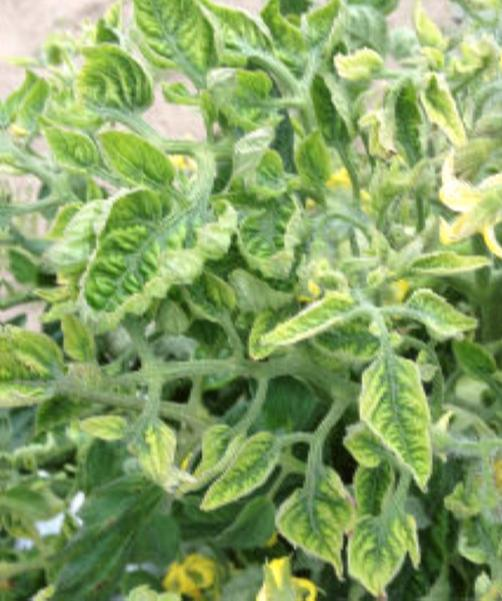Tomato leaf yellow virus: (61, 184, 242, 348), (345, 347, 449, 490), (337, 497, 456, 601), (213, 196, 324, 286), (75, 125, 187, 214), (102, 0, 215, 76), (191, 430, 285, 520), (273, 472, 358, 568), (0, 326, 73, 433), (429, 182, 502, 249)
